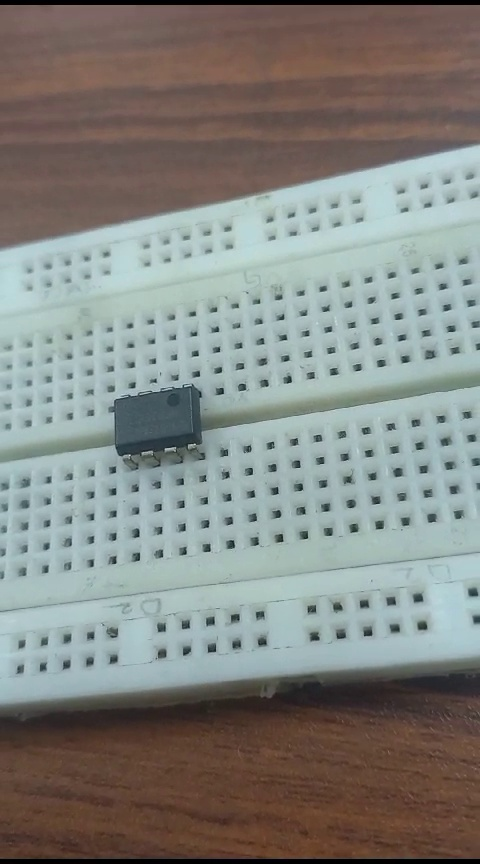IC: (112, 379, 208, 465)
